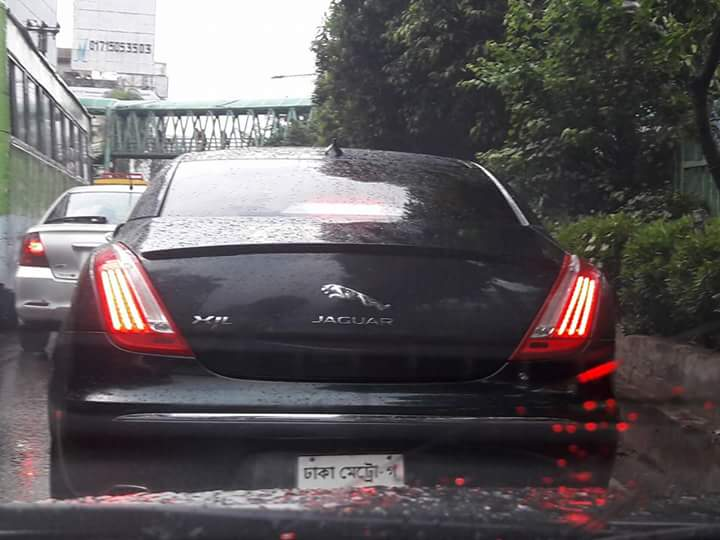registration_plate: (296, 455, 404, 489)
